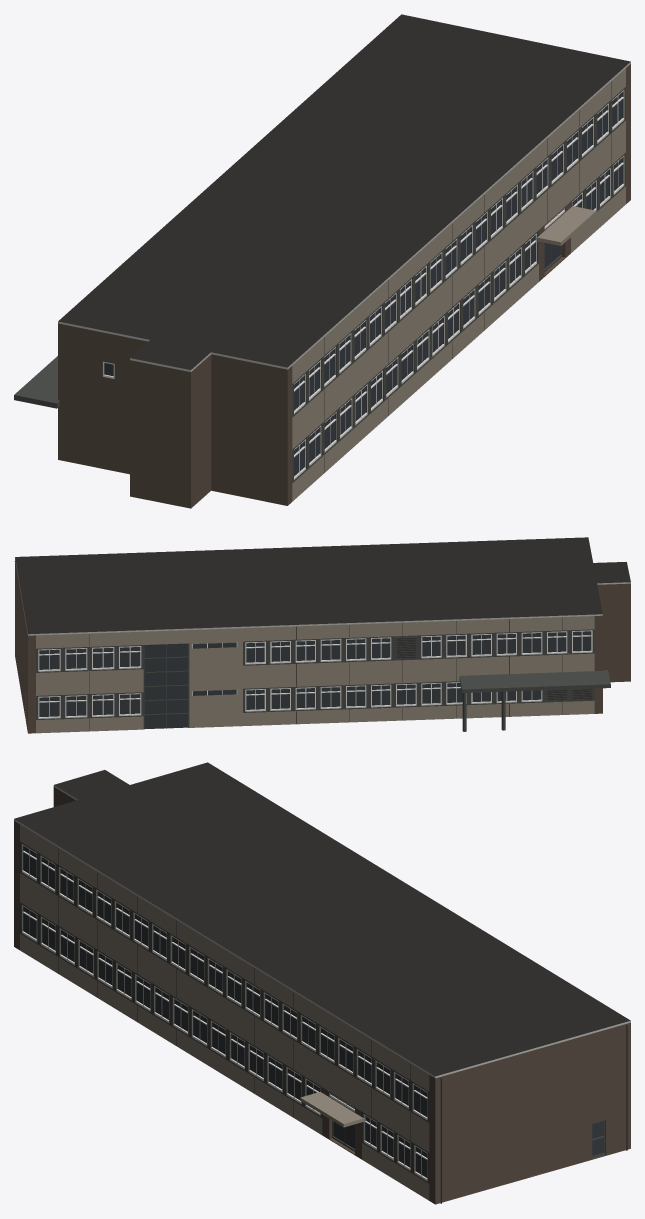
Rendered from commandementsgebouw.glb.
The picture shows the model from 3 angles, top to bottom: view 1: azimuth 30°, elevation 25°; view 2: azimuth 150°, elevation 25°; view 3: azimuth 270°, elevation 25°; orthographic projection. The views are drawn at different scales.
Parts seen in each view (by area): view 1: commandementsgebouw; view 2: commandementsgebouw; view 3: commandementsgebouw.
Boxes of the visible parts, x1,y1,x2,y2 form: commandementsgebouw: (14,14,630,508); commandementsgebouw: (14,537,630,733); commandementsgebouw: (14,762,630,1204).
Size of the model in its own units: 44.45 by 8.13 by 35.49.
